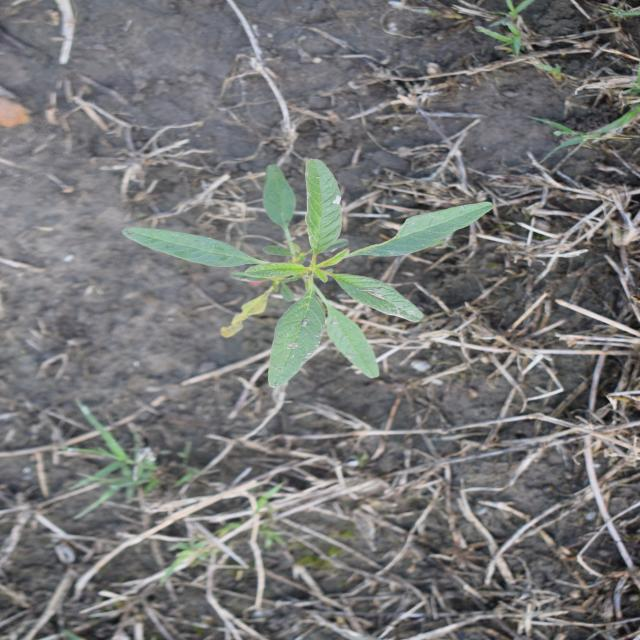Waterhemp: (120, 157, 496, 390)
